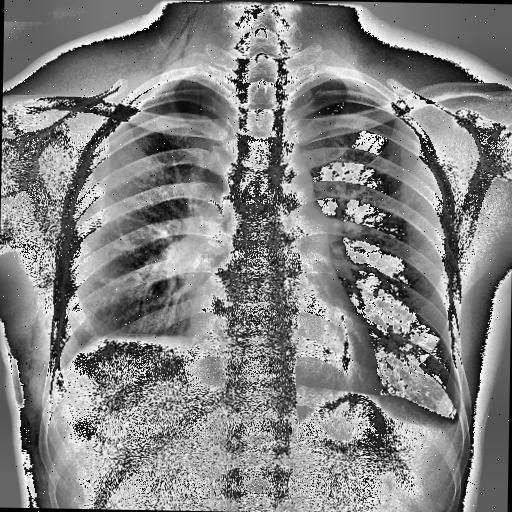10- Pleural effusion: (444, 400, 468, 444), (444, 396, 466, 440), (50, 354, 66, 382)
11- Pleural thickening: (110, 82, 166, 134), (444, 400, 468, 444), (444, 396, 466, 440), (350, 80, 388, 104), (50, 354, 66, 382)
9- Other lesion: (0, 321, 47, 495), (56, 324, 194, 378), (0, 336, 28, 410), (0, 330, 26, 409), (80, 321, 130, 353)
